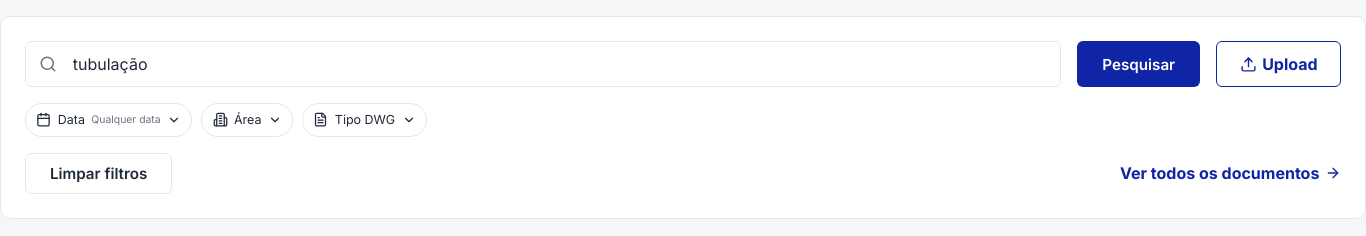
SearchPanel › should forget the remembered search when the filters are cleared
The width and height of the screenshot is (1366, 236).
Click the button "Limpar filtros": (99, 174) left=25, top=153, right=172, bottom=194
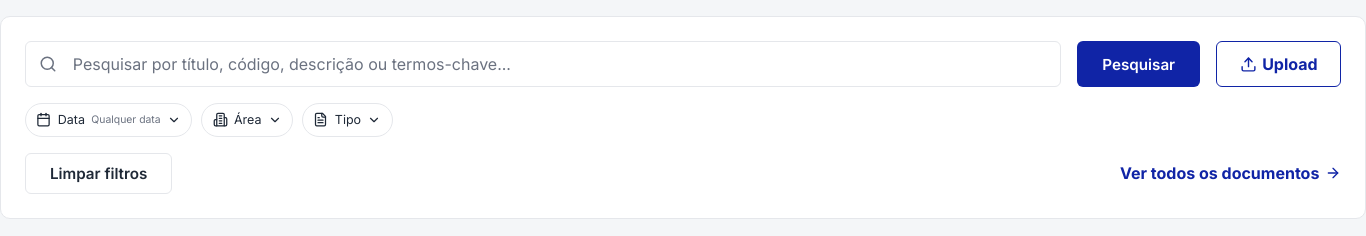
Now the search field with placeholder "Pesquisar por título, código, descrição ou termos-chave..." is empty, box left=73, top=42, right=1048, bottom=86
